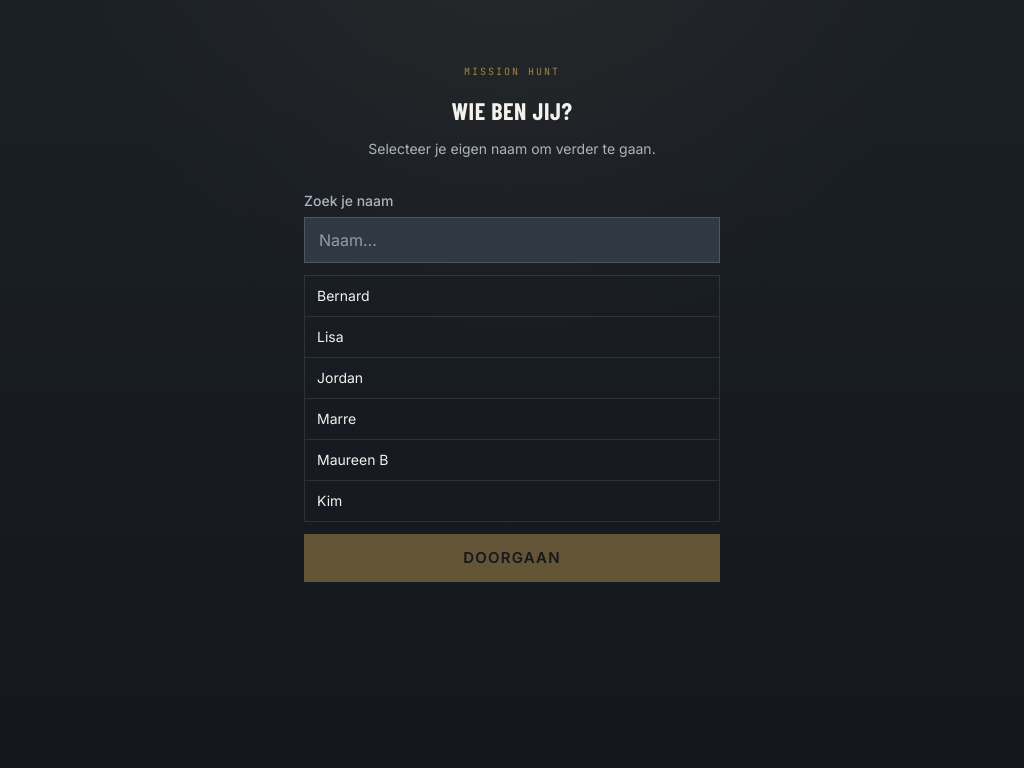
Scenario: MissionHuntPage — WIE BEN JIJ? gate › 4. selecting a name and clicking DOORGAAN opens that person's dashboard, and remembers the choice on this device
Check: the heading "Wie ben jij?" is shown, box [451,96,572,125]
Click the button "Lisa".
click(330, 336)  # box [305,317,719,357]
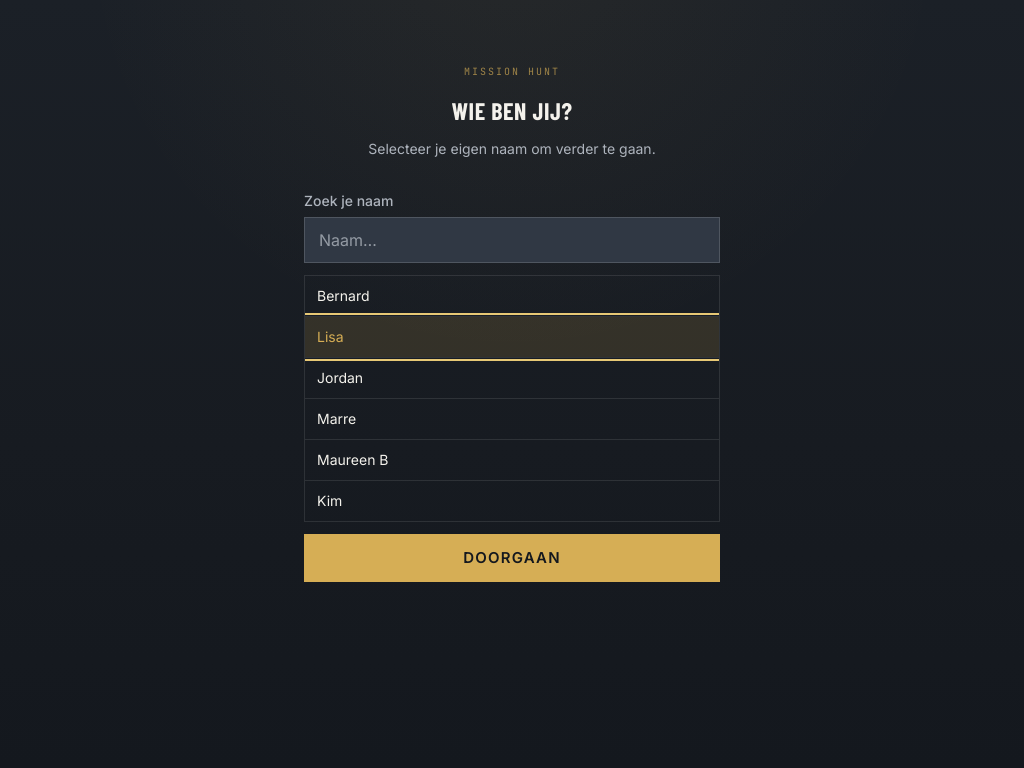
Click the button "Doorgaan".
click(512, 558)  # box [304,534,720,582]
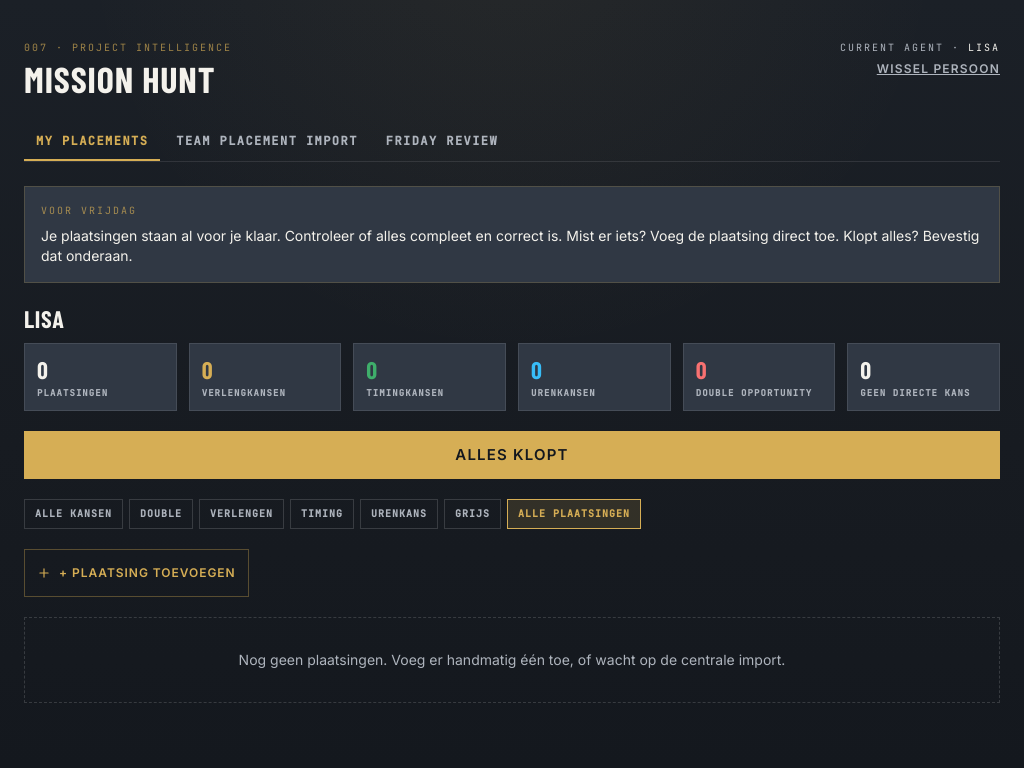
Check: the text "Current Agent · Lisa" is shown, box [840,40,1000,55]
Check: the text "Lisa" next to "Current Agent ·" is shown, box [968,41,1000,54]
